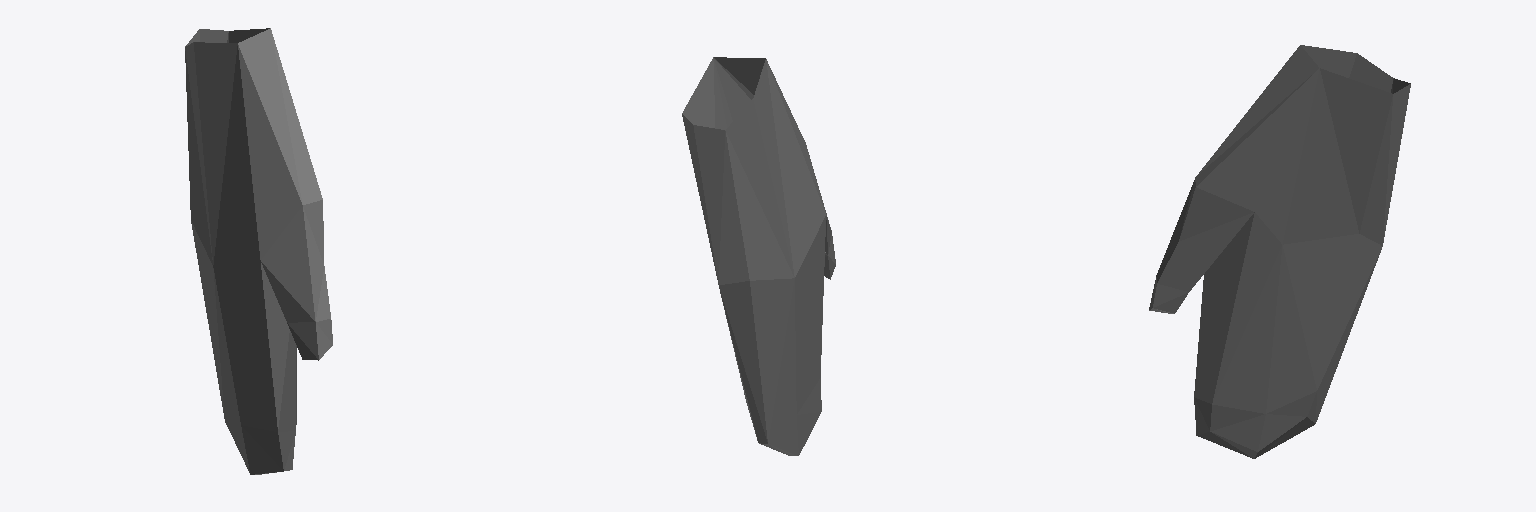
The model's file is lefthand.obj.
3 renders of one model, left to right at view 1: azimuth 30°, elevation 25°; view 2: azimuth 150°, elevation 25°; view 3: azimuth 270°, elevation 25°, orthographic.
Parts seen in each view (by area): view 1: Object002; view 2: Object002; view 3: Object002.
Boxes of the visible parts, <box> form: Object002: <box>185,28,332,474</box>; Object002: <box>682,57,835,455</box>; Object002: <box>1149,45,1410,458</box>.
Size of the model in its own units: 2.94 by 16.78 by 9.63.